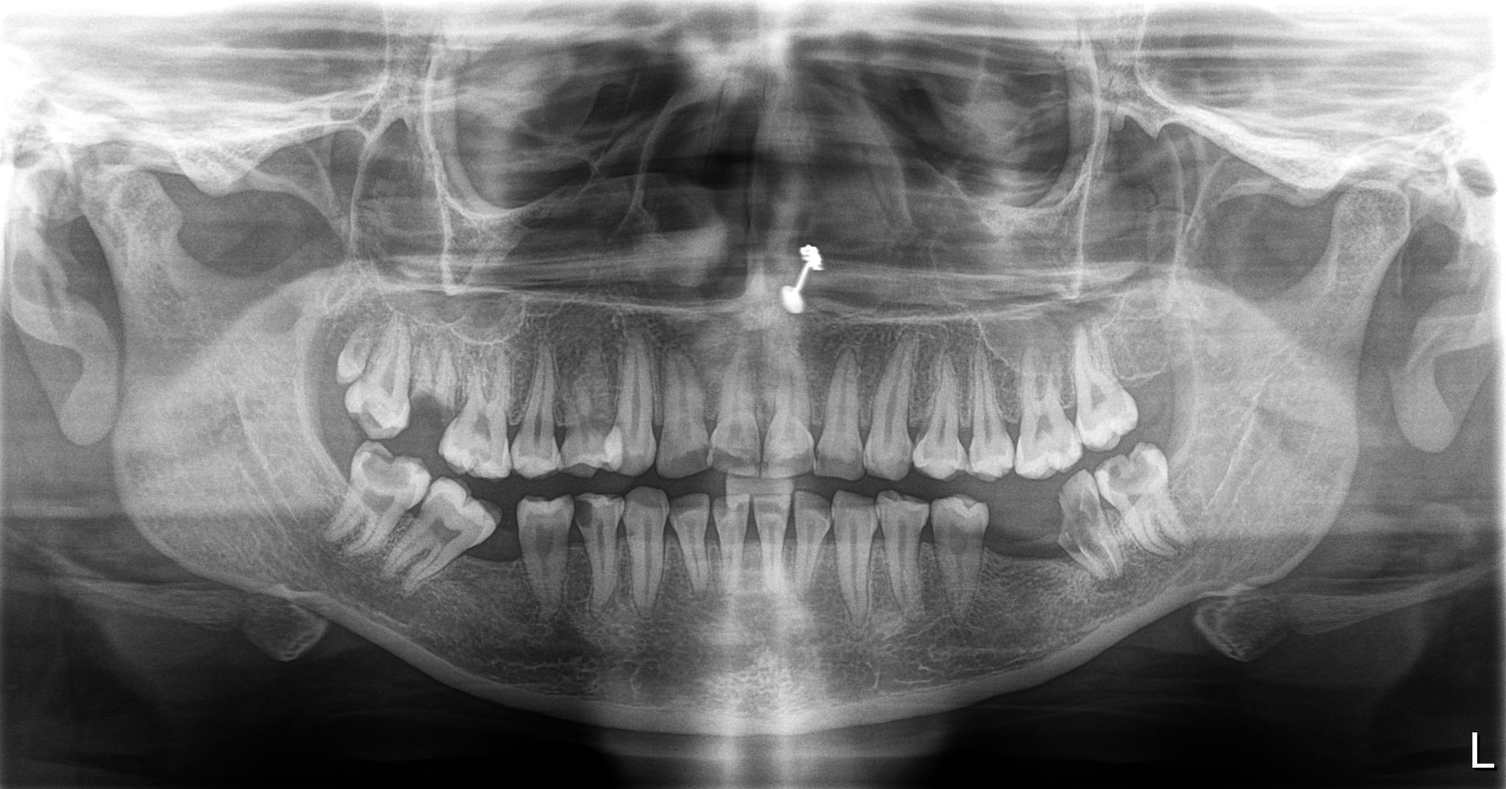Dental Caries: (1057, 496, 1098, 551)
Impacted Third Molar: (347, 452, 424, 534)
Missing Tooth: (993, 504, 1055, 605), (1125, 327, 1180, 426), (489, 531, 530, 617)
Retained Root: (309, 316, 368, 395), (410, 335, 460, 420)
